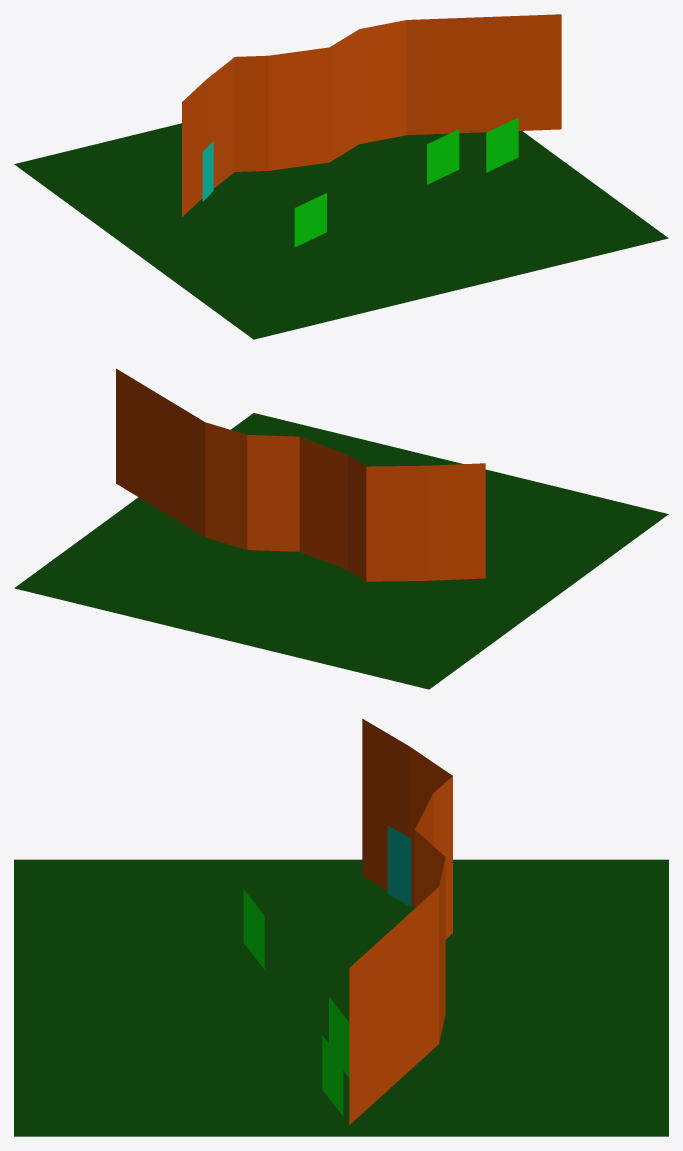
The model's file is room2.glb.
The picture shows the model from 3 angles, top to bottom: view 1: azimuth 30°, elevation 25°; view 2: azimuth 150°, elevation 25°; view 3: azimuth 270°, elevation 25°; orthographic projection. The views are drawn at different scales.
Parts seen in each view (by area): view 1: Plane, Plane.001, Plane.003, Plane.005, Plane.004, Plane.002; view 2: Plane, Plane.001; view 3: Plane, Plane.001, Plane.002, Plane.005, Plane.004, Plane.003.
Part boxes in pixels (bbox=[...]): Plane: bbox=[14, 123, 668, 339]; Plane.001: bbox=[182, 14, 561, 216]; Plane.003: bbox=[427, 129, 459, 184]; Plane.005: bbox=[486, 117, 518, 172]; Plane.004: bbox=[294, 193, 326, 247]; Plane.002: bbox=[202, 141, 213, 201]; Plane: bbox=[14, 413, 668, 689]; Plane.001: bbox=[116, 368, 485, 581]; Plane: bbox=[14, 859, 668, 1136]; Plane.001: bbox=[349, 718, 452, 1124]; Plane.002: bbox=[387, 826, 411, 906]; Plane.005: bbox=[322, 1035, 343, 1115]; Plane.004: bbox=[243, 889, 264, 969]; Plane.003: bbox=[329, 997, 349, 1077].
Bounding box in the file's own units: 15.17 × 4.5 × 14.64.
